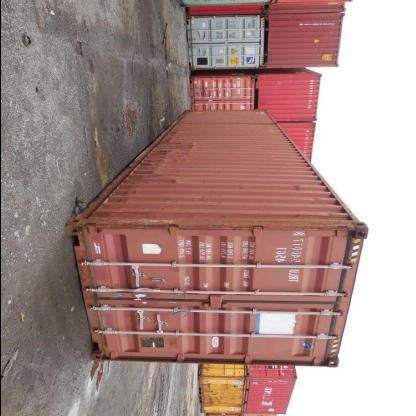Damage: (84, 206, 360, 234), (154, 129, 202, 163), (104, 166, 146, 195), (158, 332, 184, 358), (156, 172, 186, 188), (285, 180, 307, 198)
